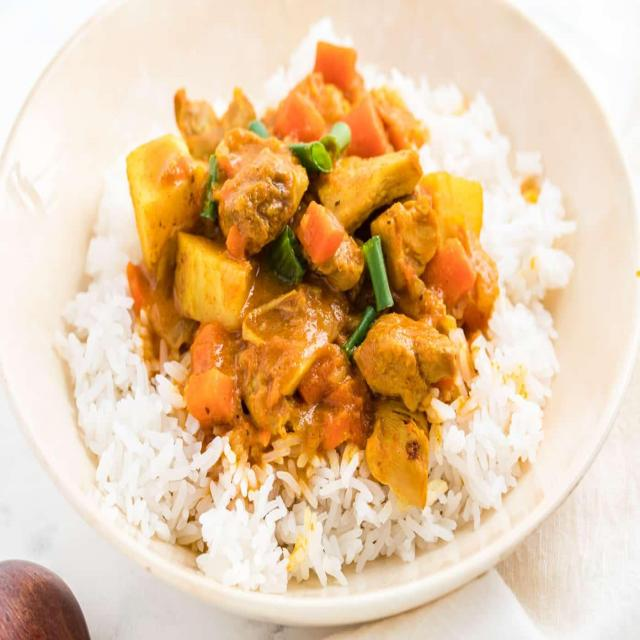chicken: (130, 75, 453, 447)
rice: (67, 354, 588, 574), (469, 109, 602, 408), (54, 135, 158, 401)
